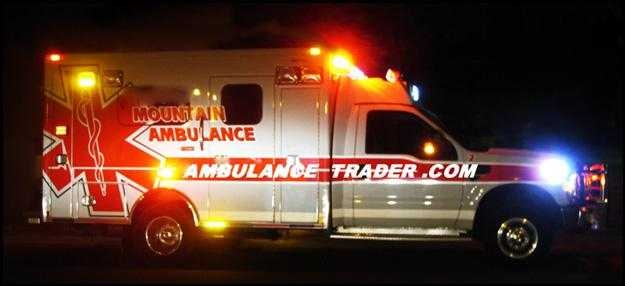Ambulance: (20, 28, 619, 265)
